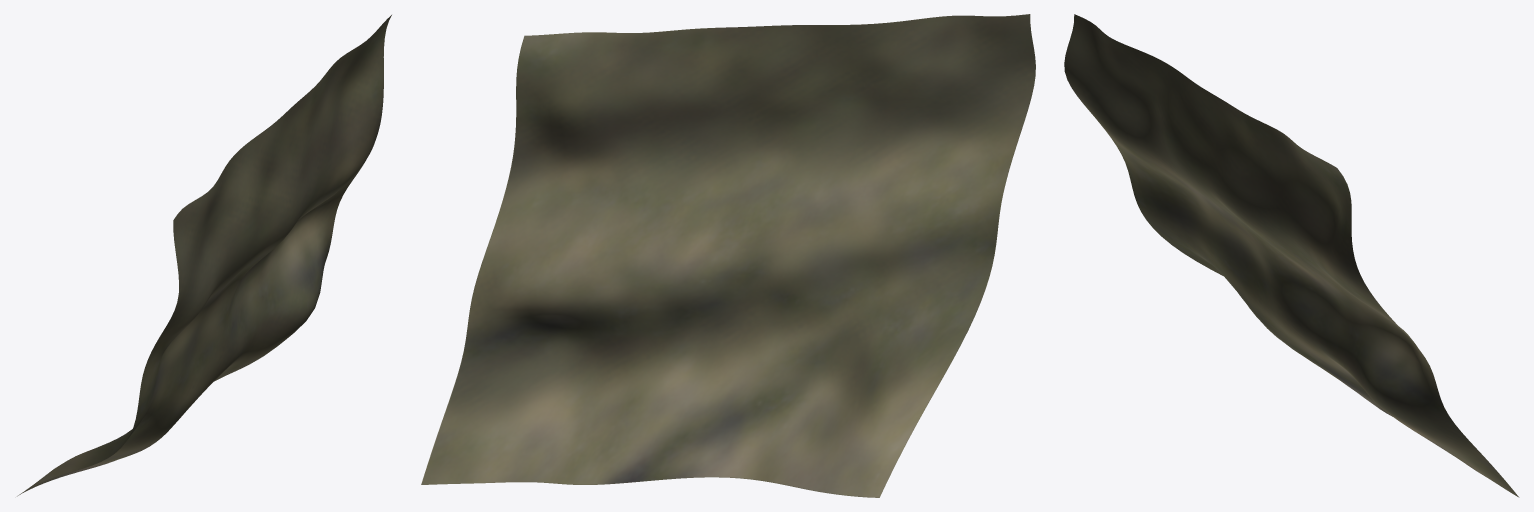
File: ground_mid_05_08.obj
The picture shows the model from 3 angles, left to right: view 1: azimuth 30°, elevation 25°; view 2: azimuth 150°, elevation 25°; view 3: azimuth 270°, elevation 25°; orthographic projection. The views are drawn at different scales.
Parts seen in each view (by area): view 1: ground_mid_05_08; view 2: ground_mid_05_08; view 3: ground_mid_05_08.
Part boxes in pixels (left/top/right/bottom): ground_mid_05_08: left=17, top=15, right=391, bottom=496; ground_mid_05_08: left=421, top=14, right=1035, bottom=497; ground_mid_05_08: left=1064, top=14, right=1519, bottom=497.
Bounding box in the file's own units: 200 × 200 × 250.
Materials: 1 (1 with a texture image).
